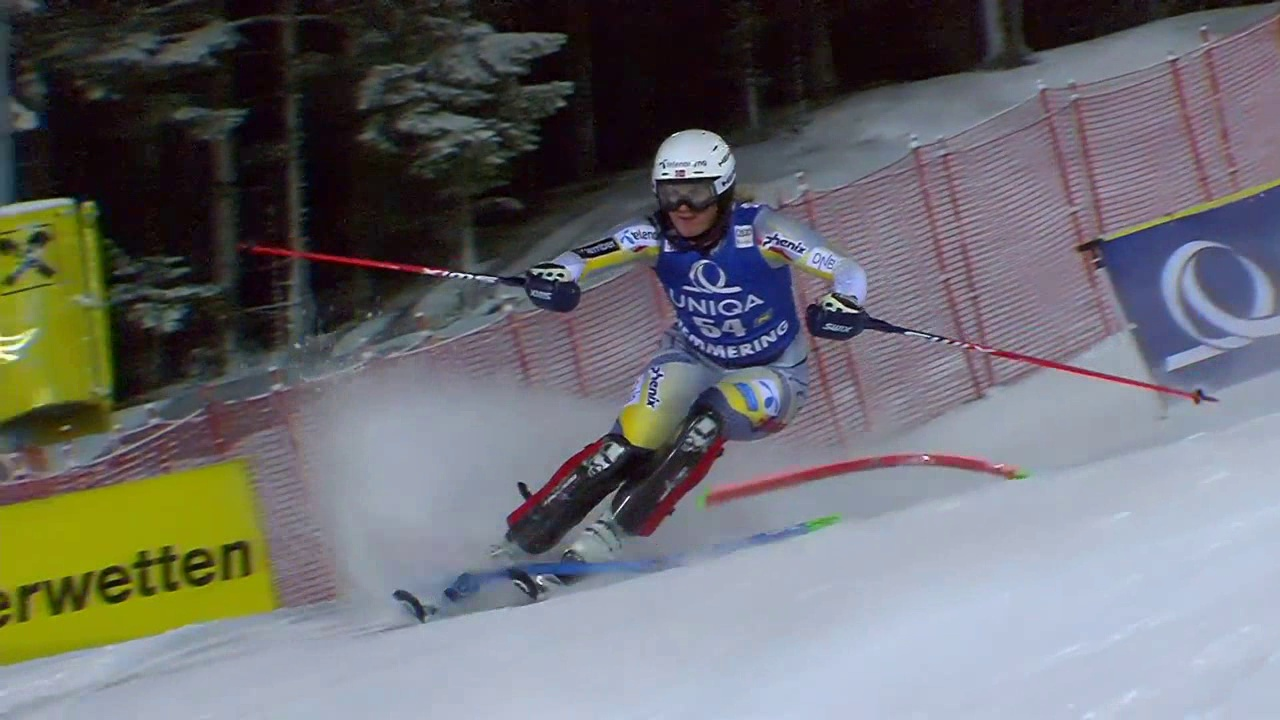audi: (1120, 150, 1279, 385)
interwetten: (1, 499, 286, 651)
raiffeisen: (1, 220, 69, 307)
uniqa: (673, 253, 764, 332)
